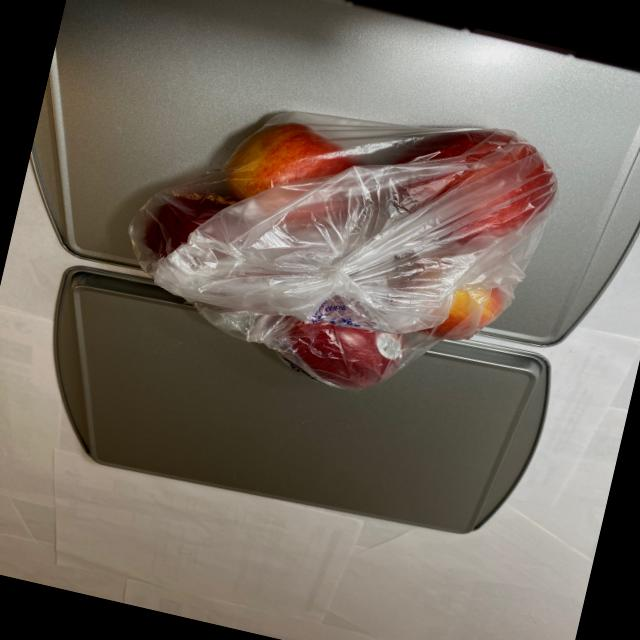apple: (100, 51, 568, 428)
